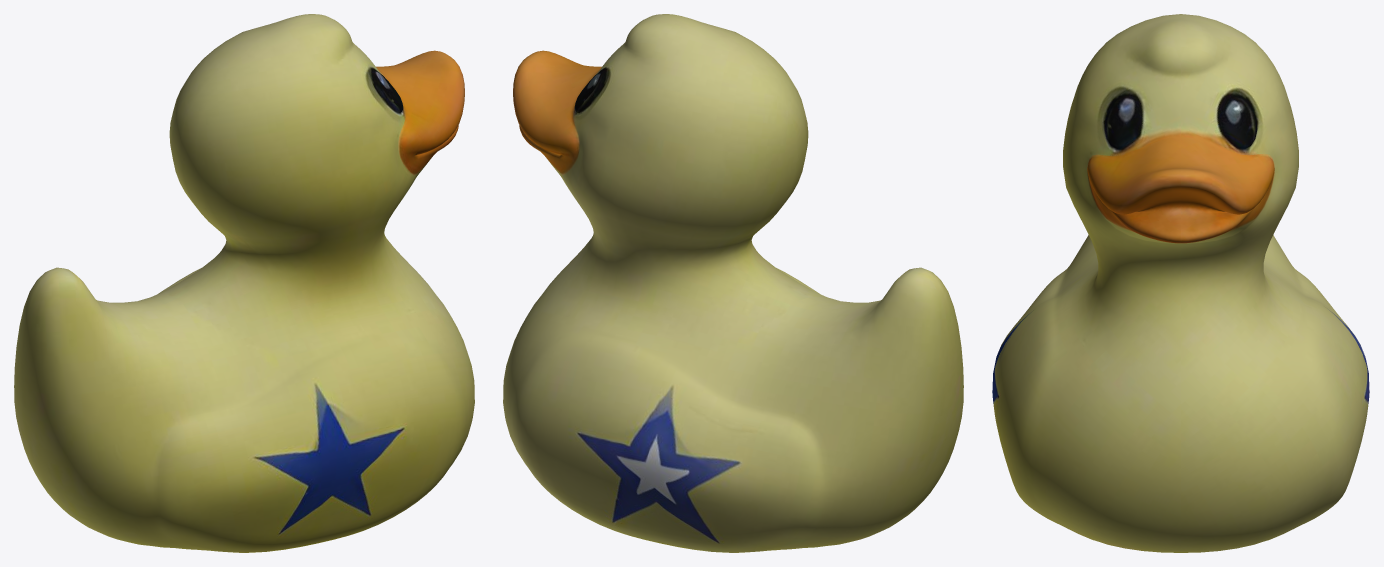
The model's file is army.glb.
3 views of the same model, side by side, from view 1: azimuth 30°, elevation 25°; view 2: azimuth 150°, elevation 25°; view 3: azimuth 270°, elevation 25° (orthographic). The views are drawn at different scales.
Parts seen in each view (by area): view 1: mvadapter_node_demo3; view 2: mvadapter_node_demo3; view 3: mvadapter_node_demo3.
Part boxes in pixels (x1,y1,x2,y2): mvadapter_node_demo3: (14,14,474,552); mvadapter_node_demo3: (503,14,963,552); mvadapter_node_demo3: (992,14,1369,552).
Size of the model in its own units: 101 by 104 by 74.23.
Materials: 1 (1 with a texture image).
